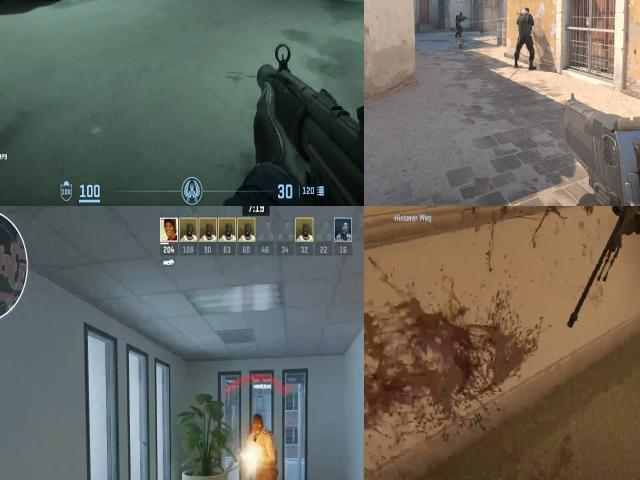CT: (518, 7, 534, 66), (456, 11, 464, 34)
CT-Head: (524, 8, 530, 13), (459, 11, 463, 16)
T: (242, 414, 276, 480)
T-Head: (250, 414, 268, 440)
